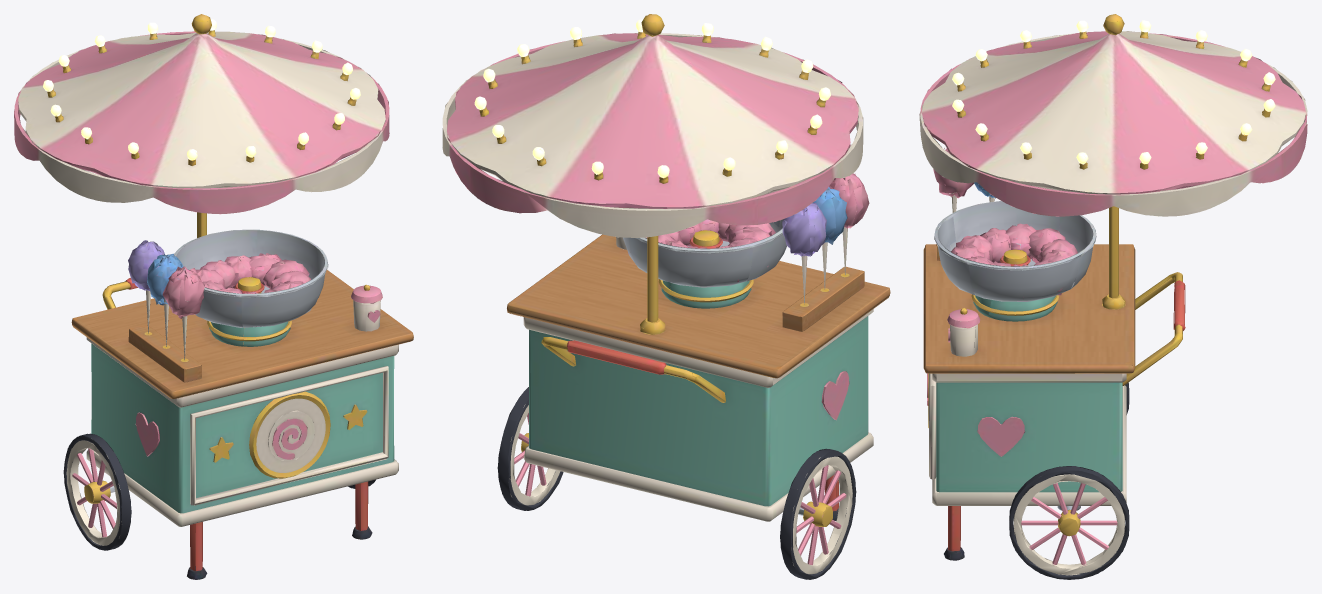
The model's file is maquina_algodon.glb.
The picture shows the model from 3 angles, left to right: view 1: azimuth 30°, elevation 25°; view 2: azimuth 150°, elevation 25°; view 3: azimuth 270°, elevation 25°; orthographic projection. The views are drawn at different scales.
Parts seen in each view (by area): view 1: cotton-candy-machine_body; view 2: cotton-candy-machine_body; view 3: cotton-candy-machine_body.
Boxes of the visible parts, x1,y1,x2,y2 form: cotton-candy-machine_body: (14, 14, 413, 579); cotton-candy-machine_body: (442, 14, 890, 579); cotton-candy-machine_body: (919, 14, 1307, 579).
Size of the model in its own units: 1.65 by 2.35 by 1.66.
10 materials, 1 textured.
